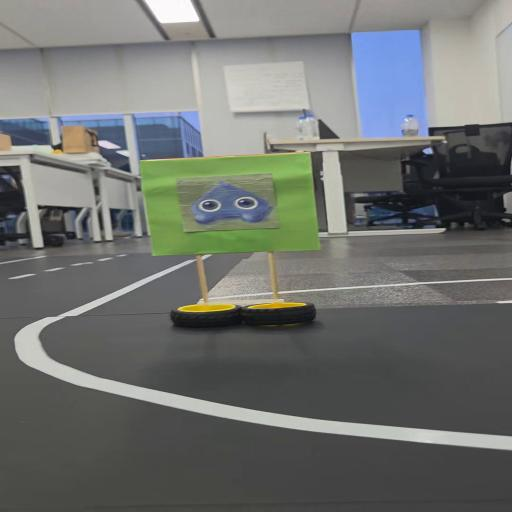Sign_B: (136, 147, 334, 338)
